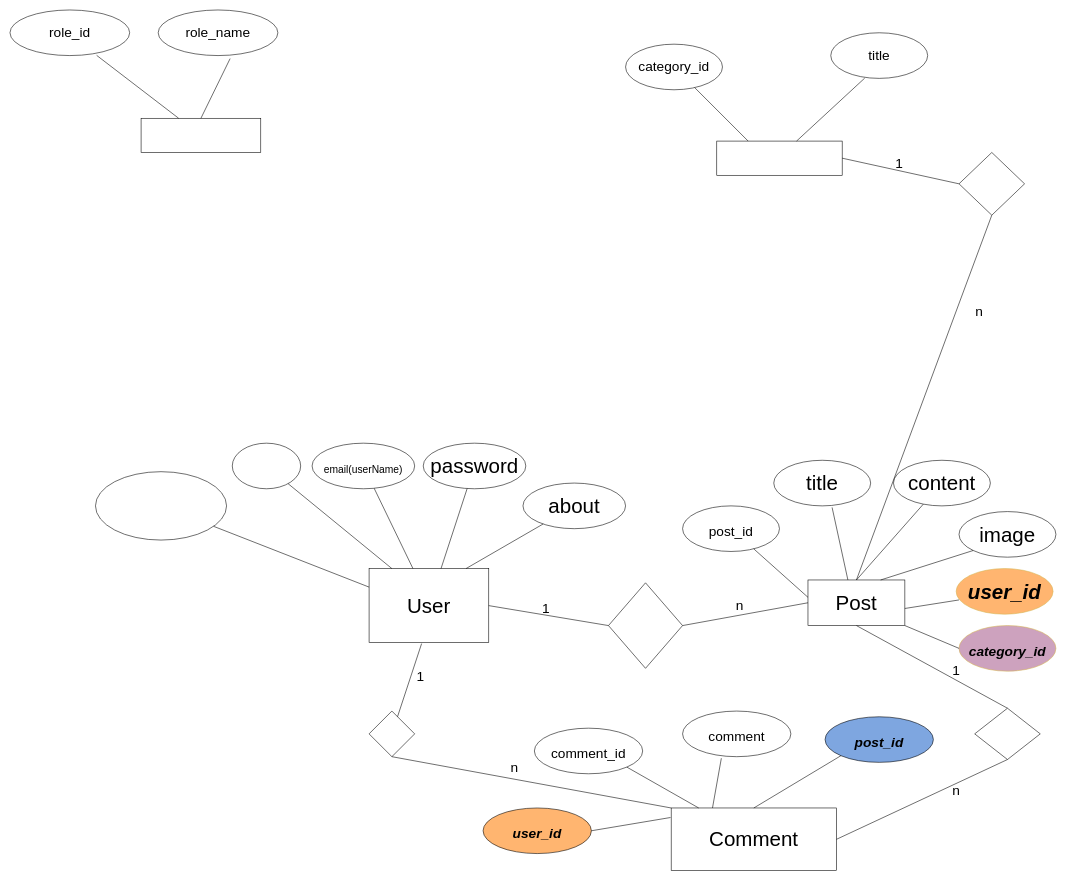
Image size: 1066x881. Some labels were removed from this diagram. The shapes that lost their labels are listed below. From the top down, each one's centre as x and y in pixels, then its label:
point 201,135: Role
point 779,158: Category
point 991,183: contains
point 266,466: name
point 161,505: id
point 645,625: can create
point 392,734: do
point 1007,734: have
